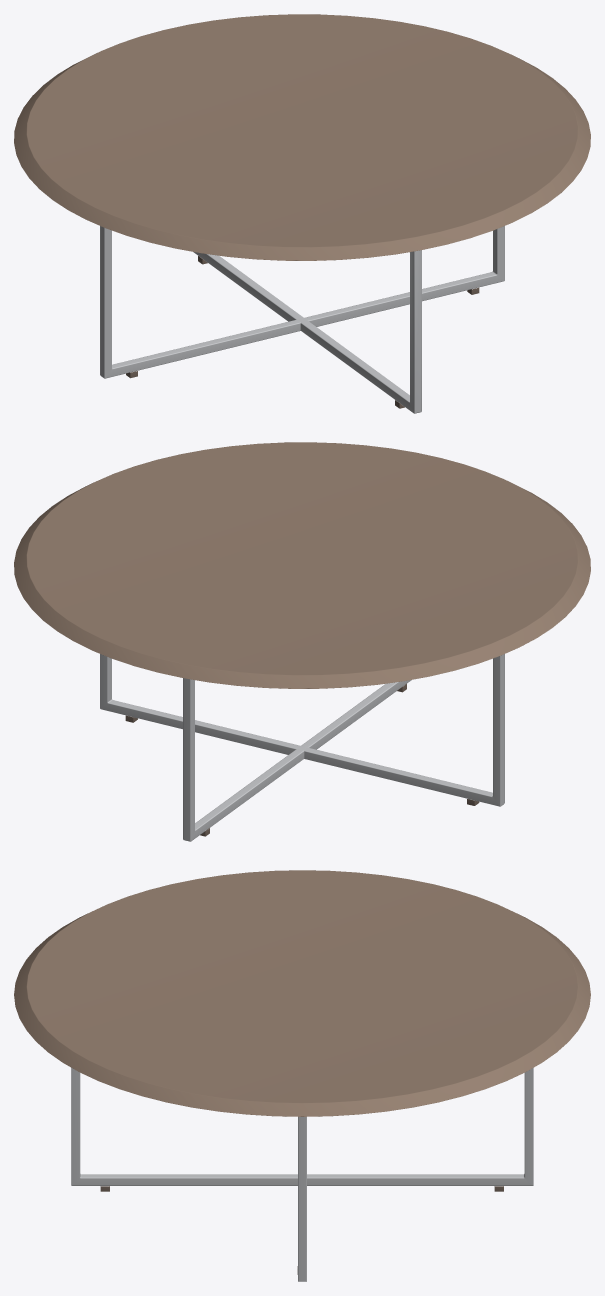
Rendered from CR_CoffeeTable.glb.
The picture shows the model from 3 angles, top to bottom: view 1: azimuth 30°, elevation 25°; view 2: azimuth 150°, elevation 25°; view 3: azimuth 270°, elevation 25°; orthographic projection.
Visible parts, largest first — view 1: Coffee Table; view 2: Coffee Table; view 3: Coffee Table.
Boxes of the visible parts, x1,y1,x2,y2 form: Coffee Table: (14,14,590,413); Coffee Table: (14,442,590,841); Coffee Table: (14,870,590,1281).
Size of the model in its own units: 0.939 by 0.365 by 0.939.
